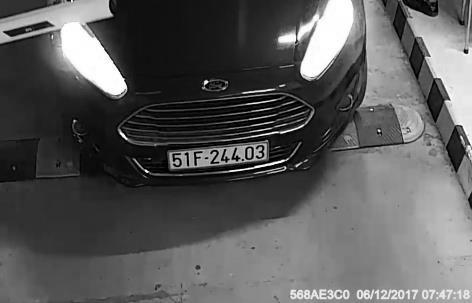License-plate: (163, 136, 277, 177)
